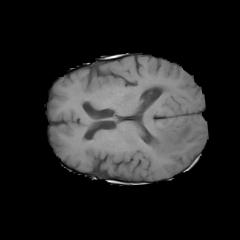glioma: (148, 121, 191, 158)
